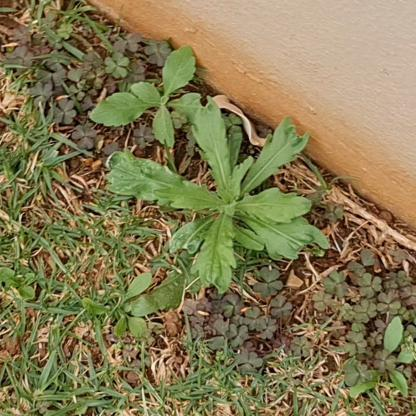Weeds: (103, 95, 332, 293), (86, 45, 222, 153), (344, 315, 415, 401), (80, 272, 153, 339), (0, 267, 42, 303)
